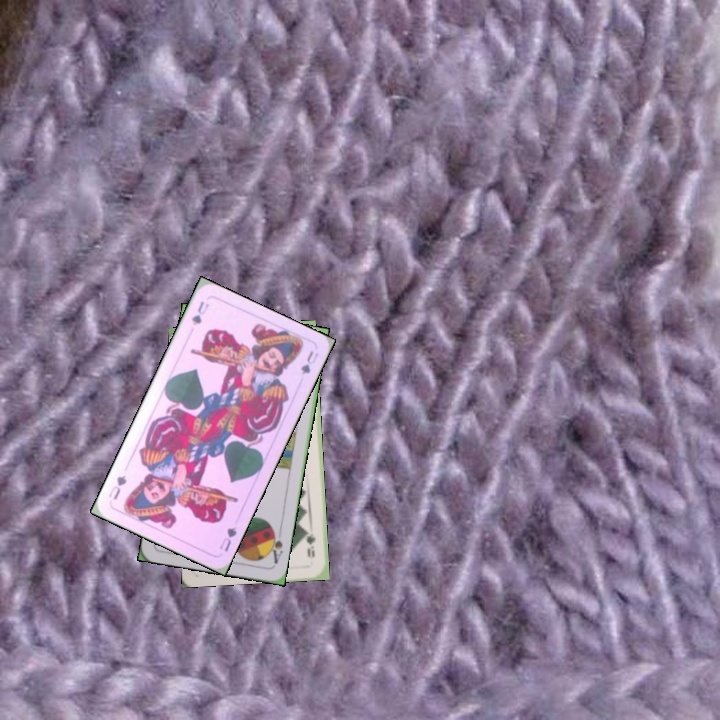G9: (303, 525, 318, 560)
GU: (215, 523, 240, 554), (187, 297, 212, 328)
SA: (265, 526, 285, 567)
